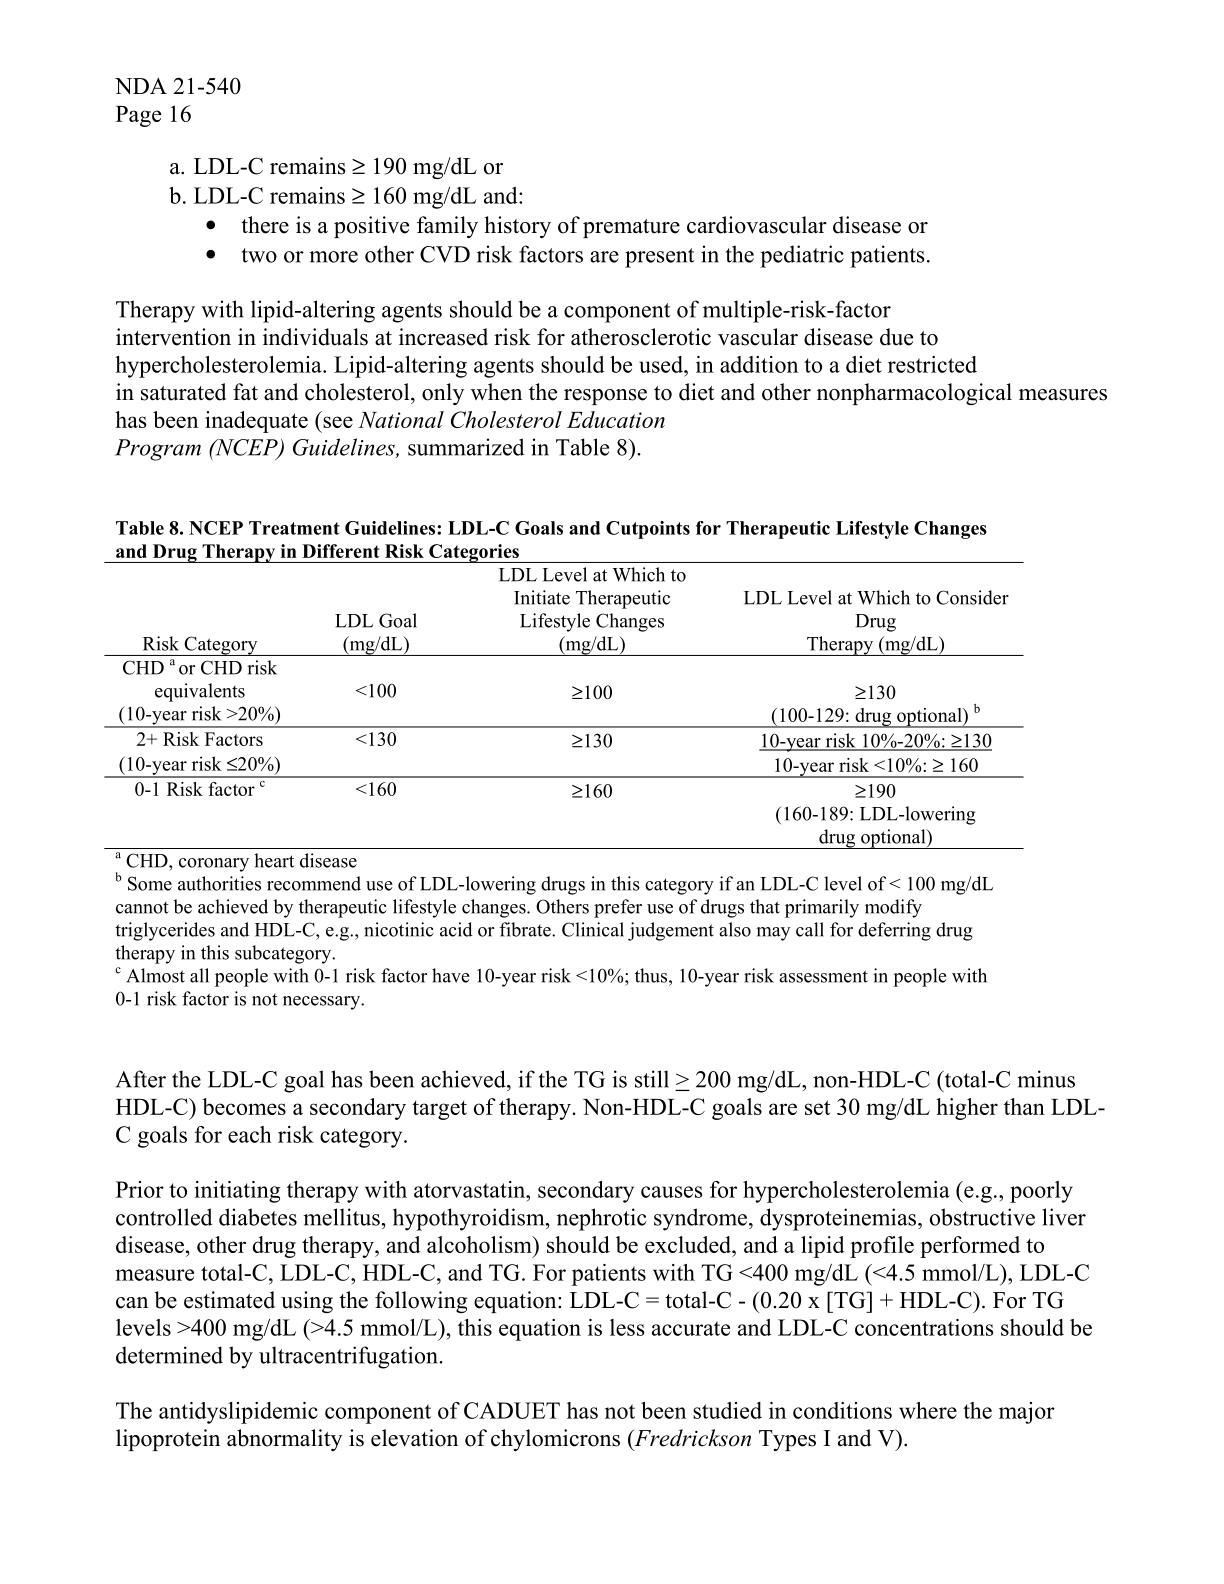partial_lined: (102, 561, 1025, 850)
